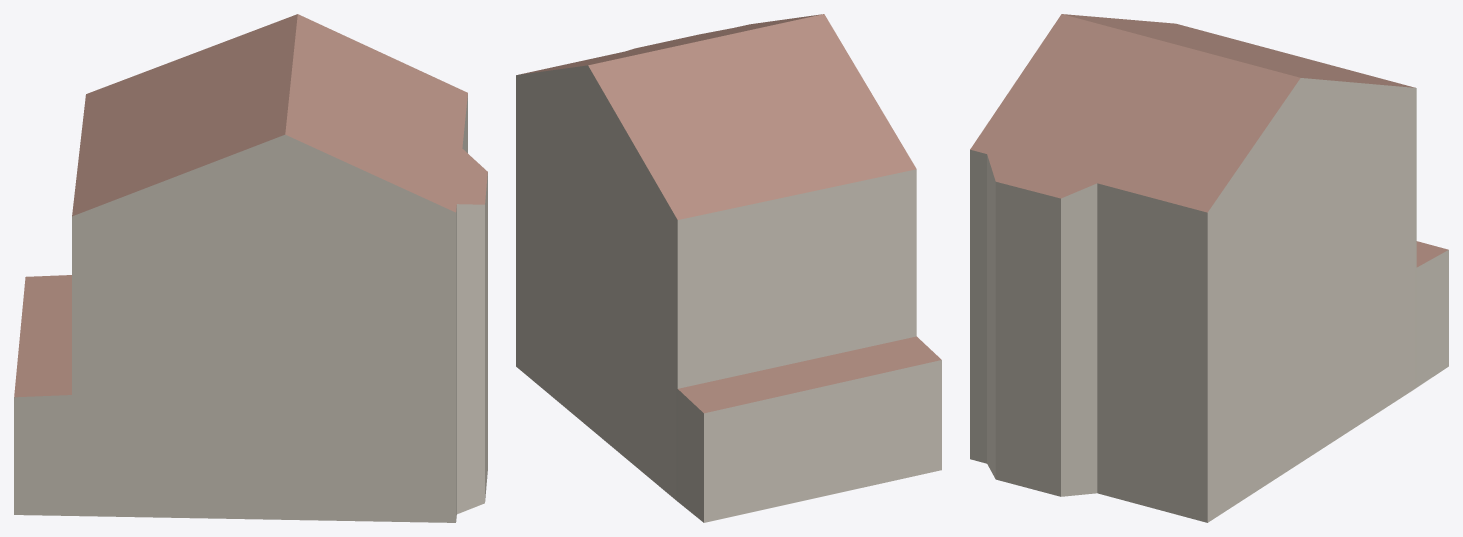
The picture shows the model from 3 angles, left to right: view 1: azimuth 30°, elevation 25°; view 2: azimuth 150°, elevation 25°; view 3: azimuth 270°, elevation 25°; orthographic projection. The views are drawn at different scales.
Bounding box in the file's own units: 14 × 11.36 × 12.81.
